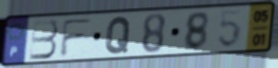5: (217, 9, 245, 50)
8: (182, 10, 211, 53), (141, 12, 167, 55)
B: (28, 18, 60, 61)
F: (59, 17, 96, 59)
Q: (104, 15, 133, 56)
